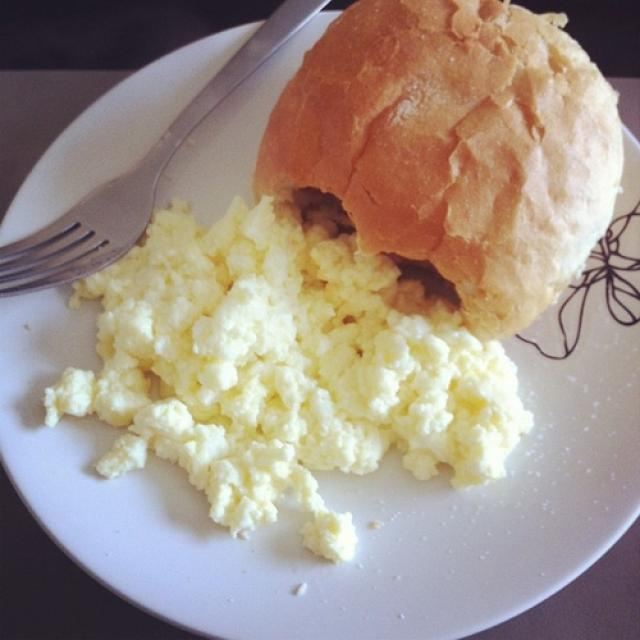鸡蛋料理: (19, 21, 634, 610)
